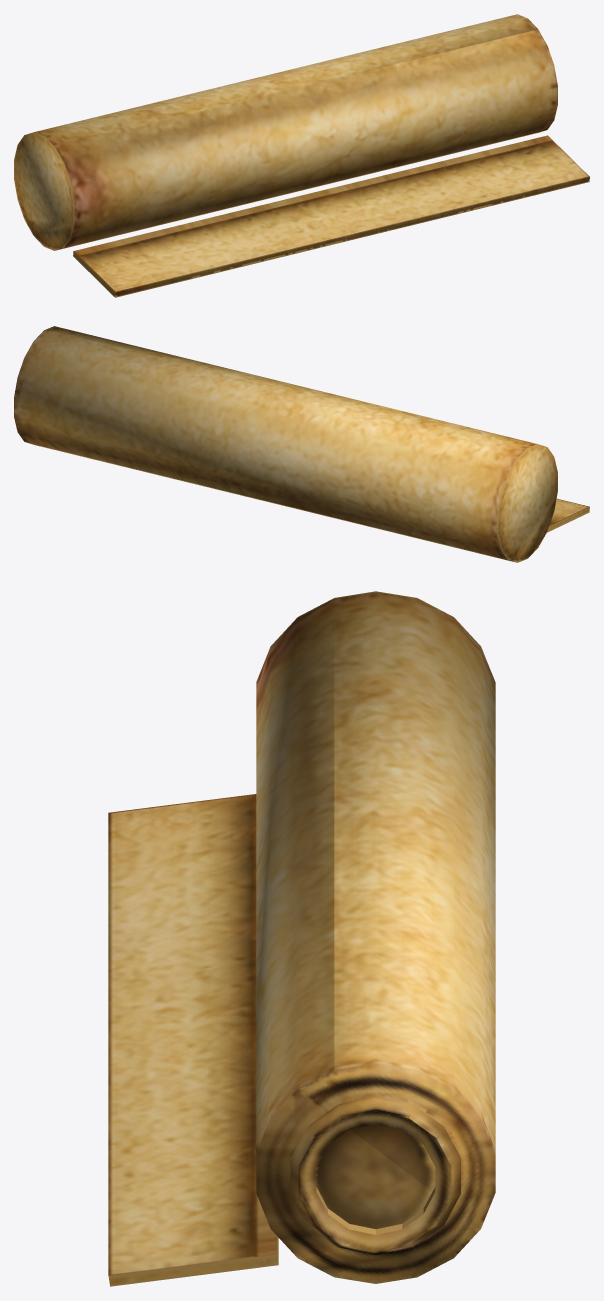
File: item_mm9_10251.glb
The picture shows the model from 3 angles, top to bottom: view 1: azimuth 30°, elevation 25°; view 2: azimuth 150°, elevation 25°; view 3: azimuth 270°, elevation 25°; orthographic projection. The views are drawn at different scales.
Parts seen in each view (by area): view 1: d10251; view 2: d10251; view 3: d10251.
Part boxes in pixels (x1=…): d10251: x1=14, y1=14, x2=589, y2=297; d10251: x1=14, y1=326, x2=589, y2=562; d10251: x1=108, y1=591, x2=495, y2=1286.
Size of the model in its own units: 63 by 13.92 by 21.45.
Materials: 1 (1 with a texture image).
